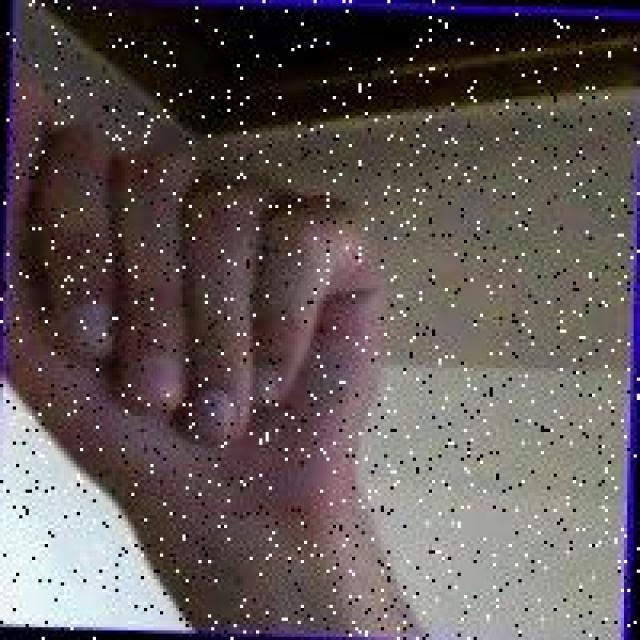A: (2, 74, 395, 556)
